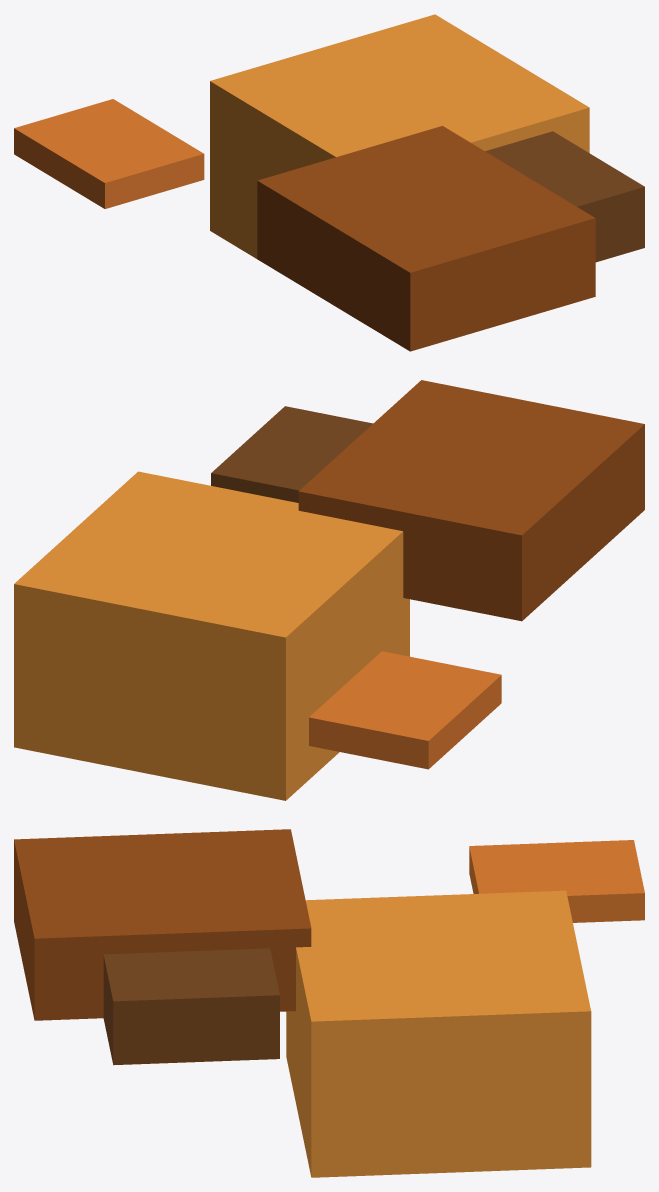
Rendered from Bricks2.FBX.
3 renders of one model, top to bottom at view 1: azimuth 30°, elevation 25°; view 2: azimuth 150°, elevation 25°; view 3: azimuth 270°, elevation 25°, orthographic. The views are drawn at different scales.
Parts seen in each view (by area): view 1: Bricks2; view 2: Bricks2; view 3: Bricks2.
Boxes of the visible parts, x1,y1,x2,y2 form: Bricks2: [14, 14, 644, 351]; Bricks2: [14, 380, 644, 800]; Bricks2: [14, 829, 644, 1177].
Size of the model in its own units: 89.71 by 34.09 by 112.
